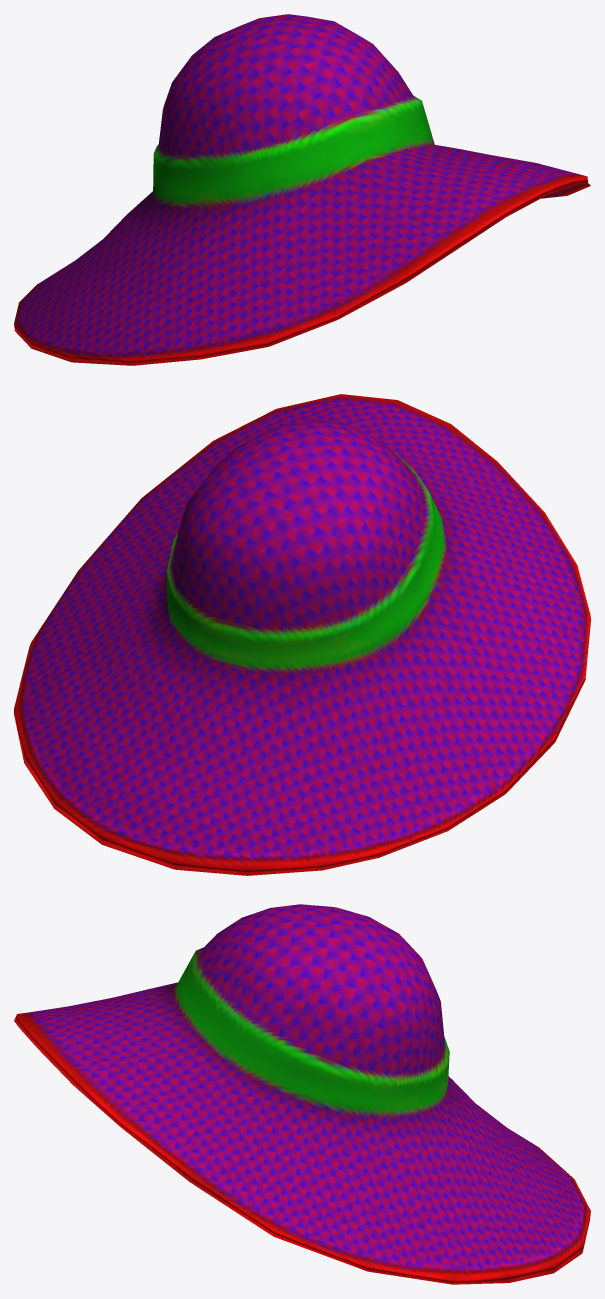
Rendered from BSMC_Outfit_Hat_SunHat.obj.
3 renders of one model, top to bottom at view 1: azimuth 30°, elevation 25°; view 2: azimuth 150°, elevation 25°; view 3: azimuth 270°, elevation 25°, orthographic. The views are drawn at different scales.
Parts seen in each view (by area): view 1: BSMC_Outfit_Hat_SunHat_0; view 2: BSMC_Outfit_Hat_SunHat_0; view 3: BSMC_Outfit_Hat_SunHat_0.
Boxes of the visible parts, box(x1,y1,x2,y2) form: BSMC_Outfit_Hat_SunHat_0: box(14, 14, 590, 365); BSMC_Outfit_Hat_SunHat_0: box(14, 394, 590, 875); BSMC_Outfit_Hat_SunHat_0: box(14, 904, 590, 1284).
Size of the model in its own units: 0.49 by 0.3145 by 0.5252.
1 material, 1 textured.
